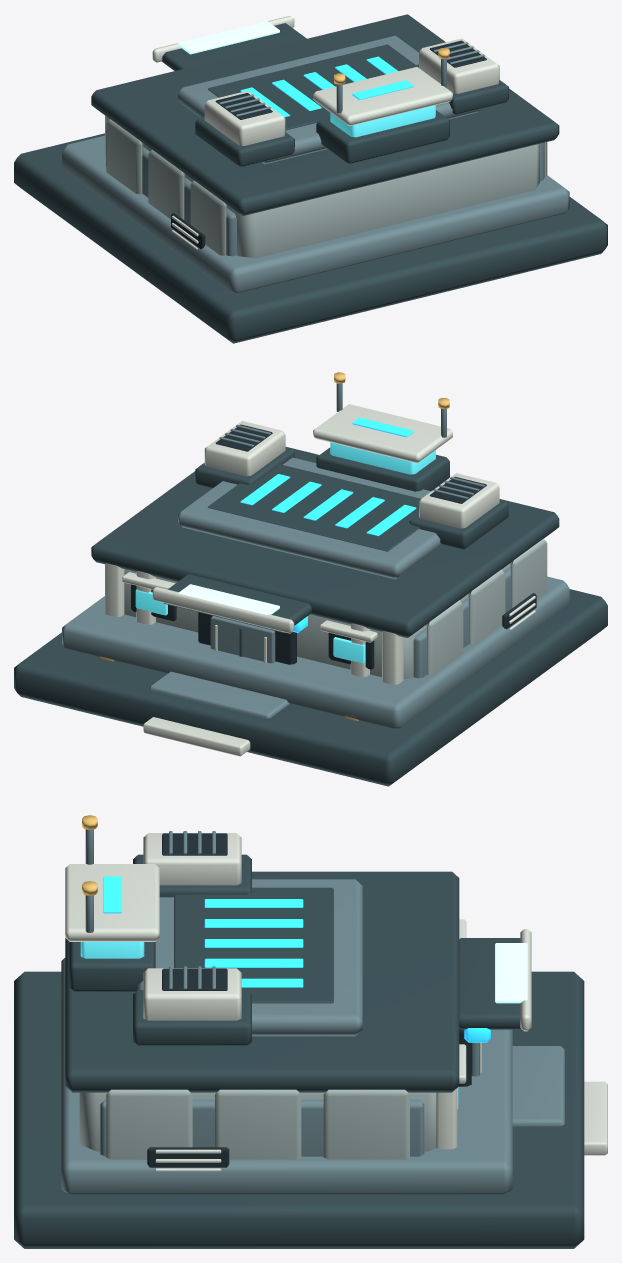
File: barracks.glb
3 views of the same model, one above another, from view 1: azimuth 30°, elevation 25°; view 2: azimuth 150°, elevation 25°; view 3: azimuth 270°, elevation 25° (orthographic). The views are drawn at different scales.
Parts seen in each view (by area): view 1: Barracks foundation, Armored lower chassis, Troop quarters, Intake blade, Entry header armor, Side intake cassette, Entry canopy light, Barracks armored window; view 2: Barracks foundation, Armored lower chassis, Intake blade, Troop quarters, Side intake cassette, Entry header armor, Barracks armored window, Entry blast door, Entry canopy light; view 3: Barracks foundation, Armored lower chassis, Troop quarters, Intake blade, Entry header armor, Side intake cassette, Entry canopy light, Barracks armored window.
Boxes of the visible parts, box(x1,y1,x2,y2) form: Barracks foundation: box(14, 14, 607, 343); Armored lower chassis: box(62, 35, 569, 292); Troop quarters: box(106, 119, 547, 258); Intake blade: box(105, 16, 499, 249); Entry header armor: box(240, 56, 413, 117); Side intake cassette: box(171, 40, 486, 248); Entry canopy light: box(178, 21, 279, 54); Barracks armored window: box(330, 105, 435, 137); Barracks foundation: box(14, 447, 607, 786); Armored lower chassis: box(62, 383, 569, 728); Intake blade: box(105, 404, 535, 756); Troop quarters: box(124, 538, 547, 678); Side intake cassette: box(131, 424, 536, 669); Entry header armor: box(240, 417, 416, 632); Barracks armored window: box(135, 442, 435, 663); Entry blast door: box(210, 616, 275, 663); Entry canopy light: box(178, 584, 279, 614); Barracks foundation: box(14, 854, 584, 1248); Armored lower chassis: box(61, 829, 564, 1194); Troop quarters: box(79, 1089, 436, 1159); Intake blade: box(65, 833, 607, 1171); Entry header armor: box(103, 876, 490, 1042); Side intake cassette: box(147, 833, 471, 1167); Entry canopy light: box(495, 943, 527, 1003); Barracks armored window: box(80, 942, 458, 1109).
Size of the model in its own units: 2.78 by 1.51 by 2.9.
